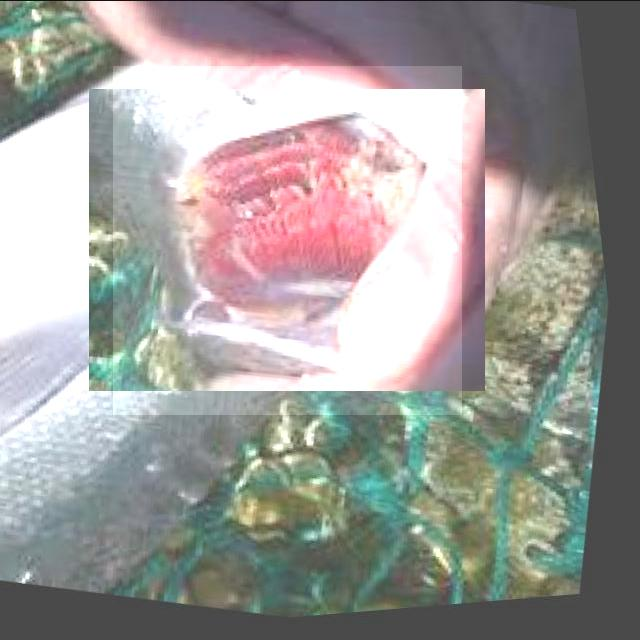Gill Disease: (113, 65, 462, 414)
